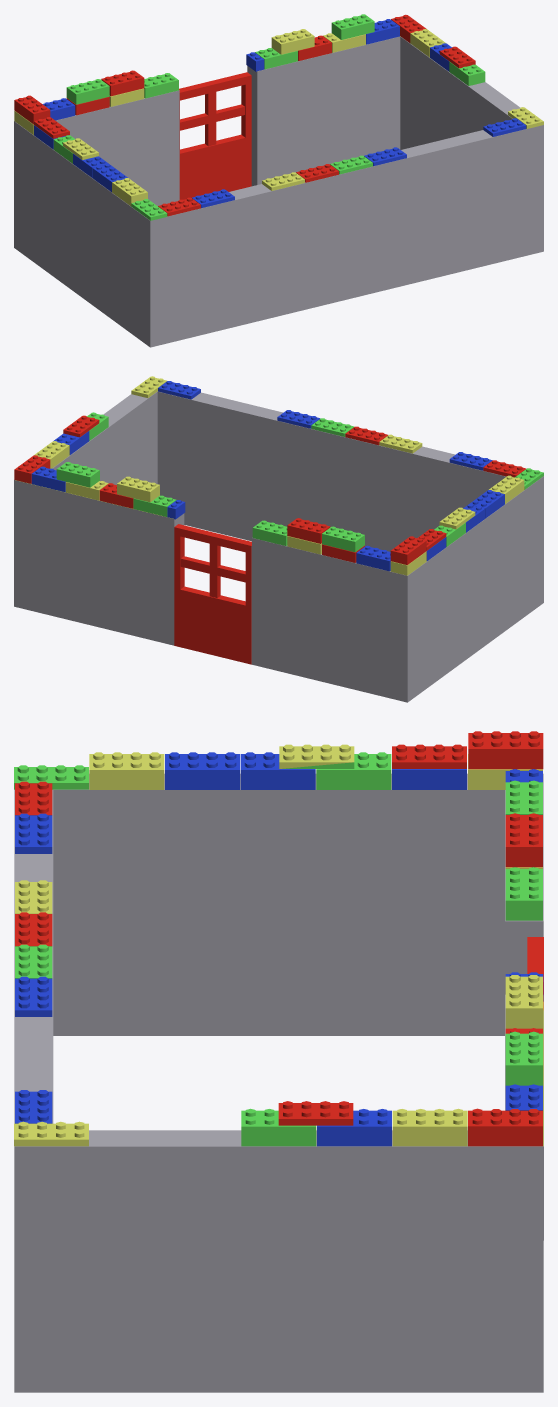
The picture shows the model from 3 angles, top to bottom: view 1: azimuth 30°, elevation 25°; view 2: azimuth 150°, elevation 25°; view 3: azimuth 270°, elevation 25°; orthographic projection. The views are drawn at different scales.
Visible parts, largest first — view 1: CasaLego; view 2: CasaLego; view 3: CasaLego.
Part boxes in pixels (x1,y1,x2,y2): CasaLego: [14, 14, 543, 347]; CasaLego: [14, 376, 543, 702]; CasaLego: [14, 731, 543, 1392].
Size of the model in its own units: 50 by 18.16 by 30.04.
